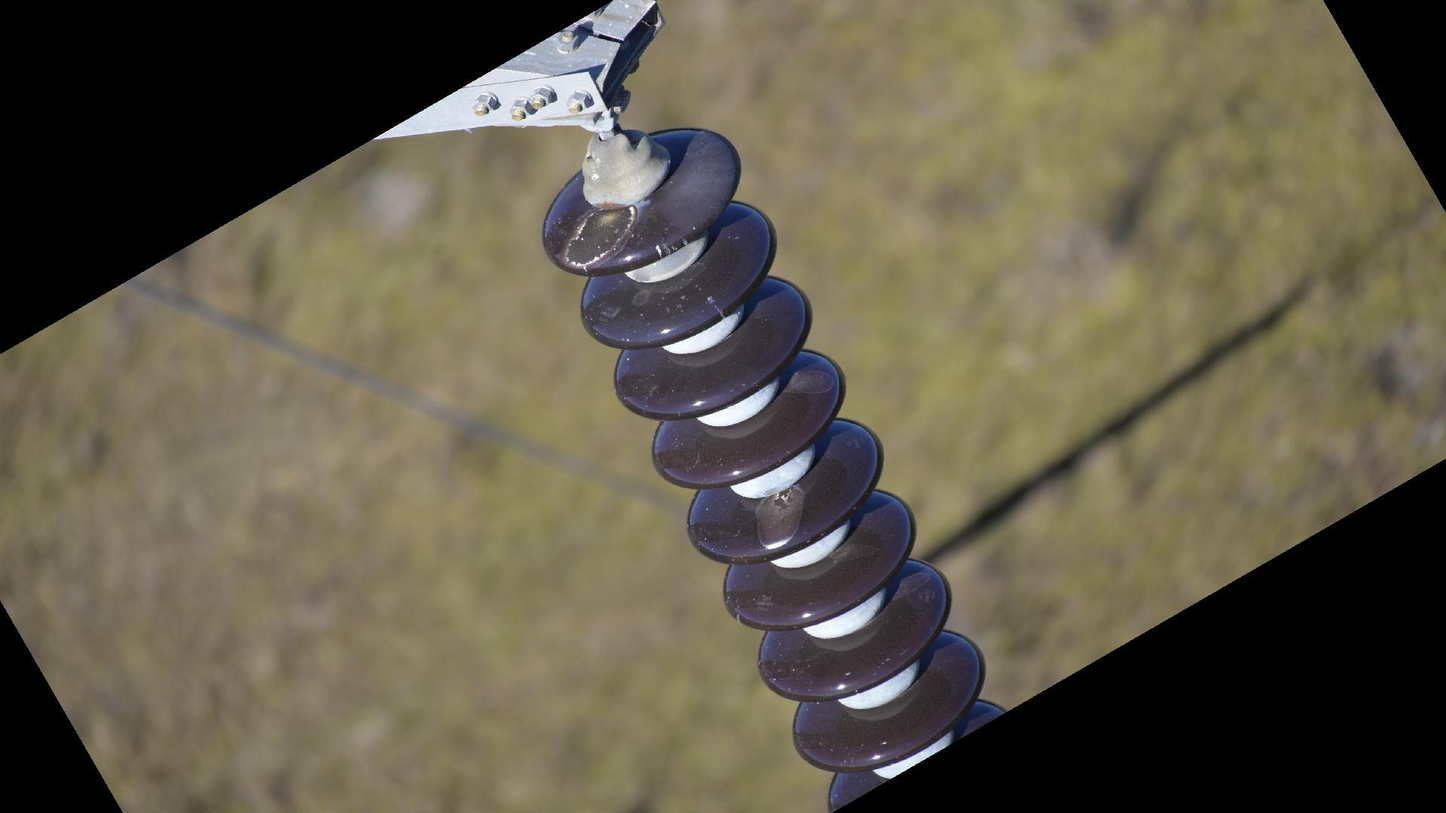insulator: (535, 123, 1016, 813)
insulator_flashover: (562, 201, 637, 271), (750, 481, 807, 551)
